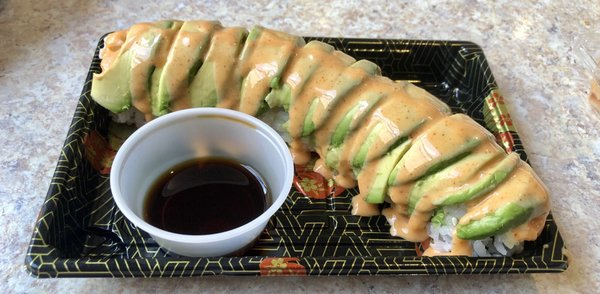soup: (384, 113, 522, 247), (317, 76, 447, 189), (282, 40, 370, 144), (314, 77, 396, 174)
sushi: (110, 107, 295, 260)
